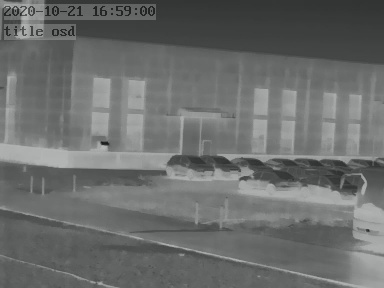vehicle: (303, 172, 358, 201), (239, 169, 303, 191), (164, 153, 213, 179), (202, 153, 242, 177), (232, 154, 269, 172), (343, 156, 379, 172), (262, 155, 296, 169), (319, 156, 351, 170), (296, 155, 326, 169)
